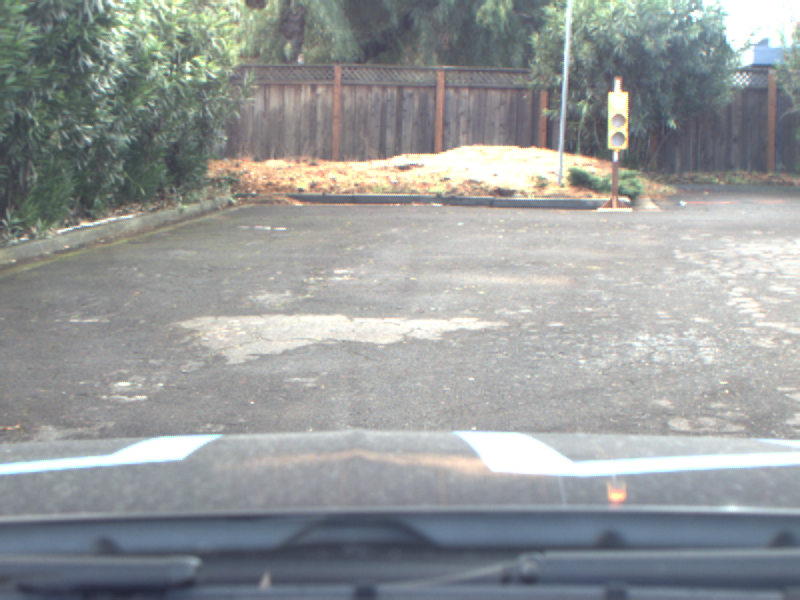Red: (608, 92, 628, 150)
